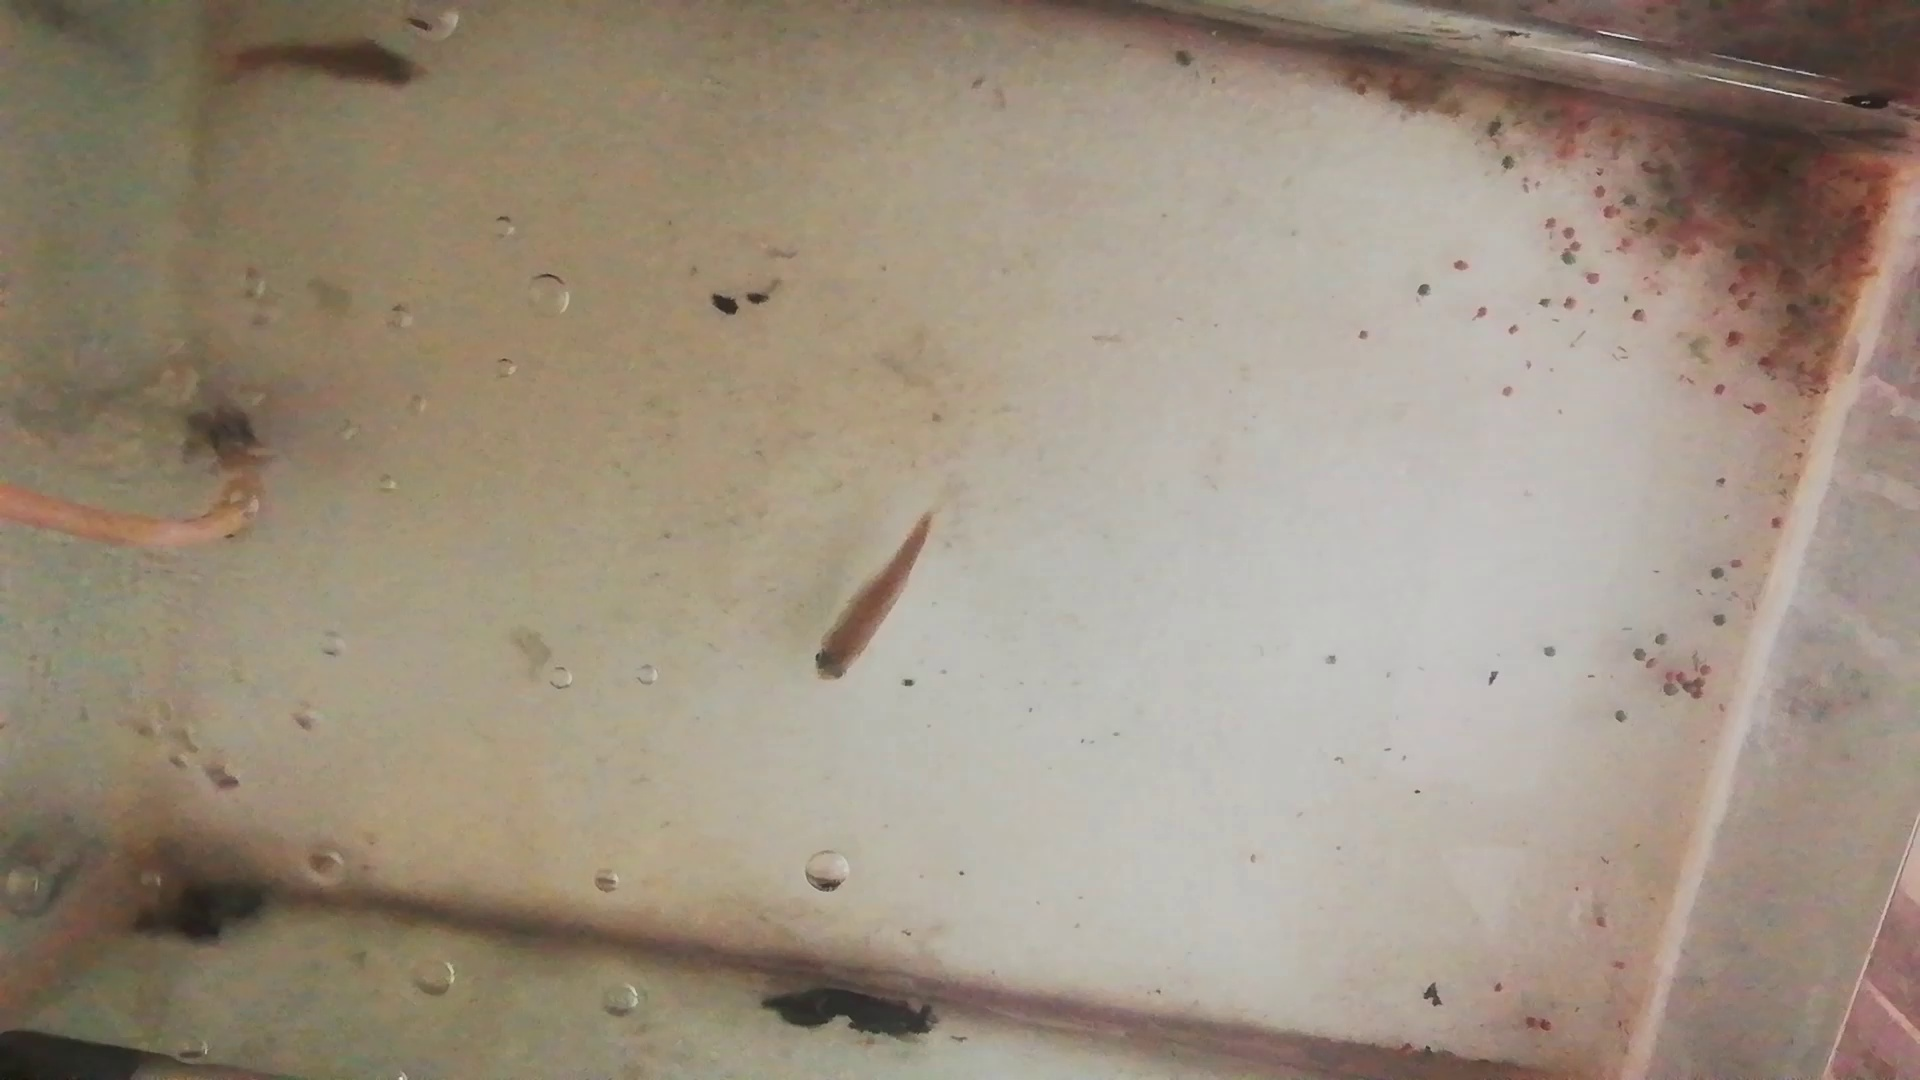fish: (808, 513, 927, 686), (210, 40, 430, 95)
